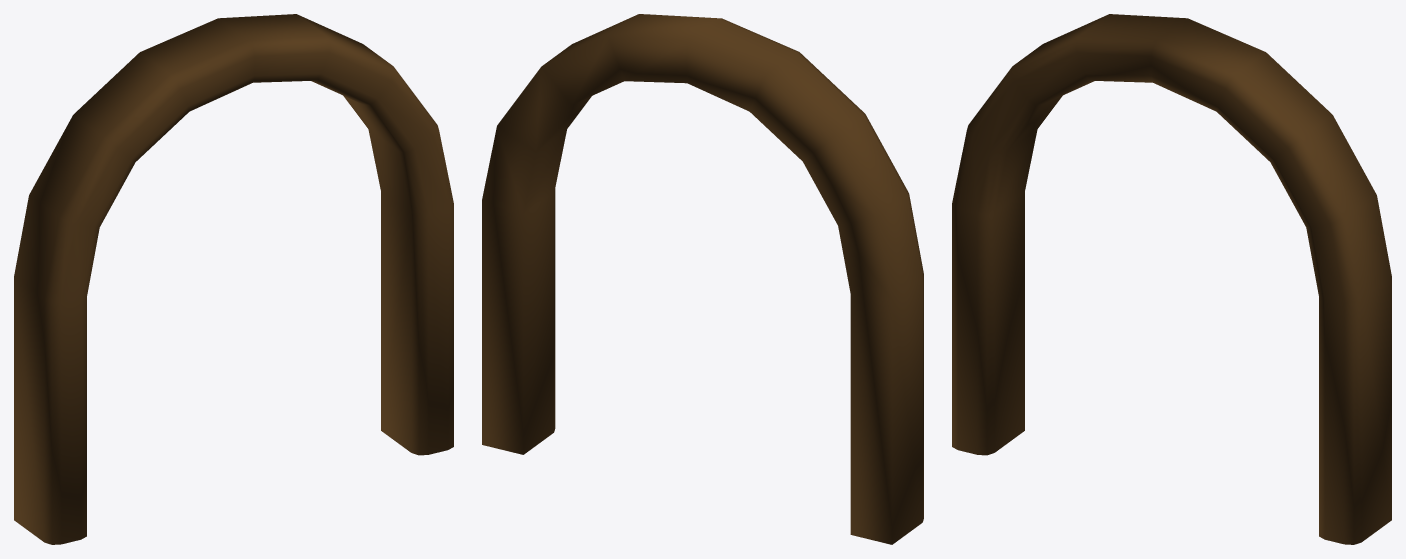
Rendered from door_frame.glb.
The picture shows the model from 3 angles, left to right: view 1: azimuth 30°, elevation 25°; view 2: azimuth 150°, elevation 25°; view 3: azimuth 330°, elevation 25°; orthographic projection.
Parts seen in each view (by area): view 1: door frame; view 2: door frame; view 3: door frame.
Part boxes in pixels (box(x1,y1,x2,y2)): door frame: box(14, 14, 453, 544); door frame: box(482, 14, 923, 544); door frame: box(952, 14, 1391, 544).
Size of the model in its own units: 3.88 by 4.11 by 0.6043.
